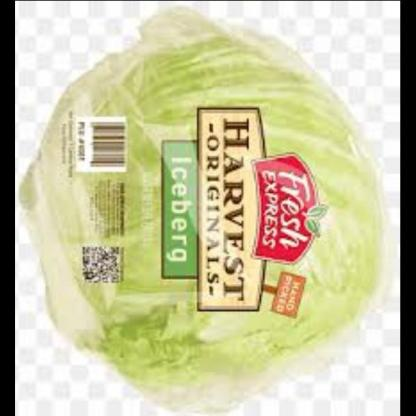salad: (61, 31, 385, 401)
